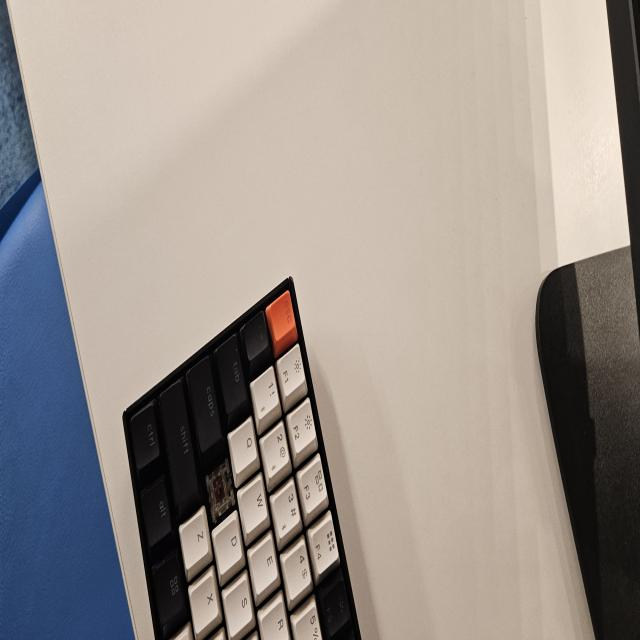C: (207, 471, 232, 504)
